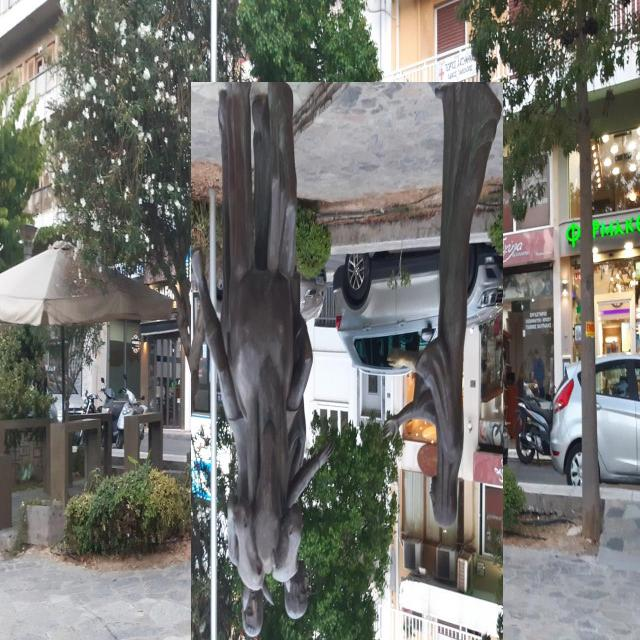Aretousa: (192, 83, 504, 640)
